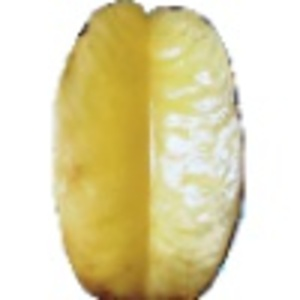carambola: (51, 1, 247, 300)
